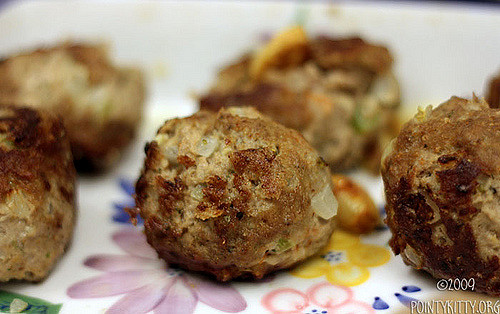meatballs: (133, 101, 348, 276), (390, 93, 500, 297), (1, 101, 84, 285)
